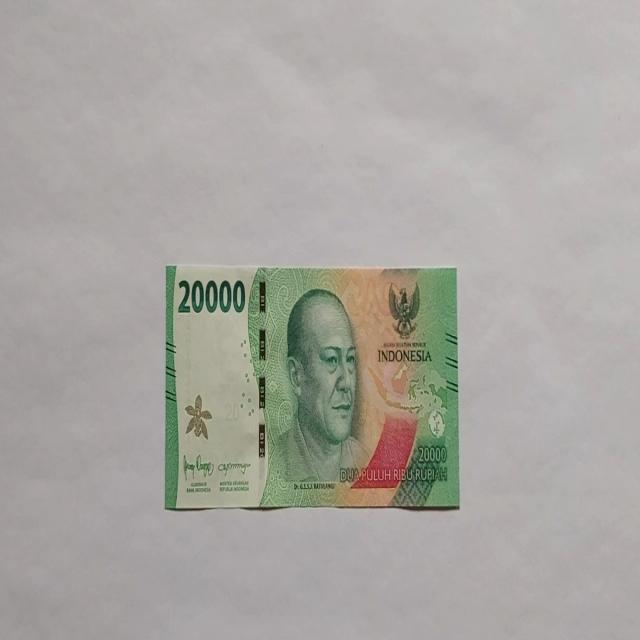dua puluh ribu rupiah: (164, 262, 459, 511), (260, 286, 373, 506)
